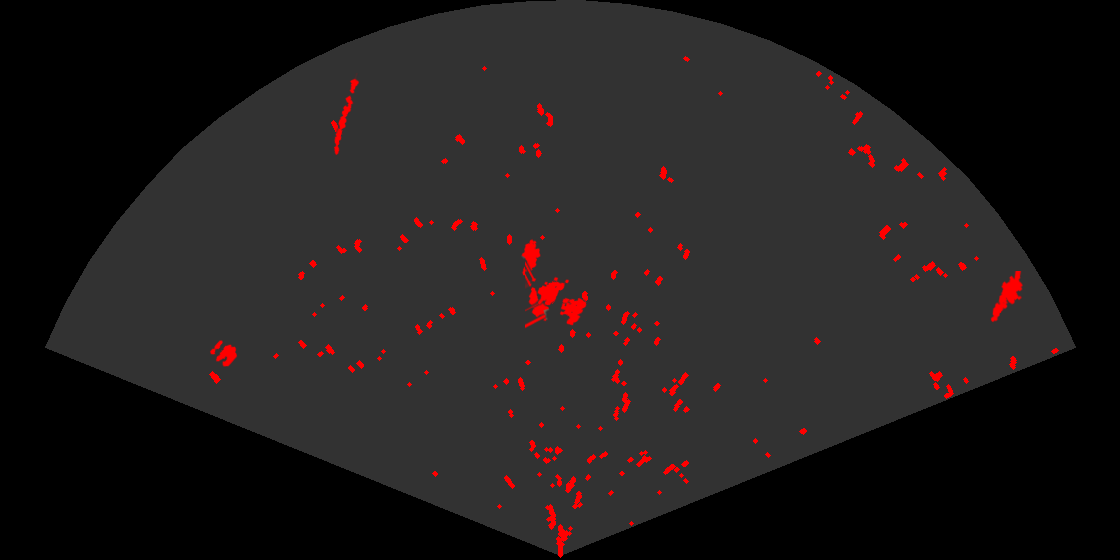AUV: (527, 285, 551, 323), (520, 237, 542, 277)
ball: (208, 339, 239, 368)
cage: (525, 260, 588, 330)
chain: (332, 73, 361, 157)
frogman: (989, 271, 1025, 324)
